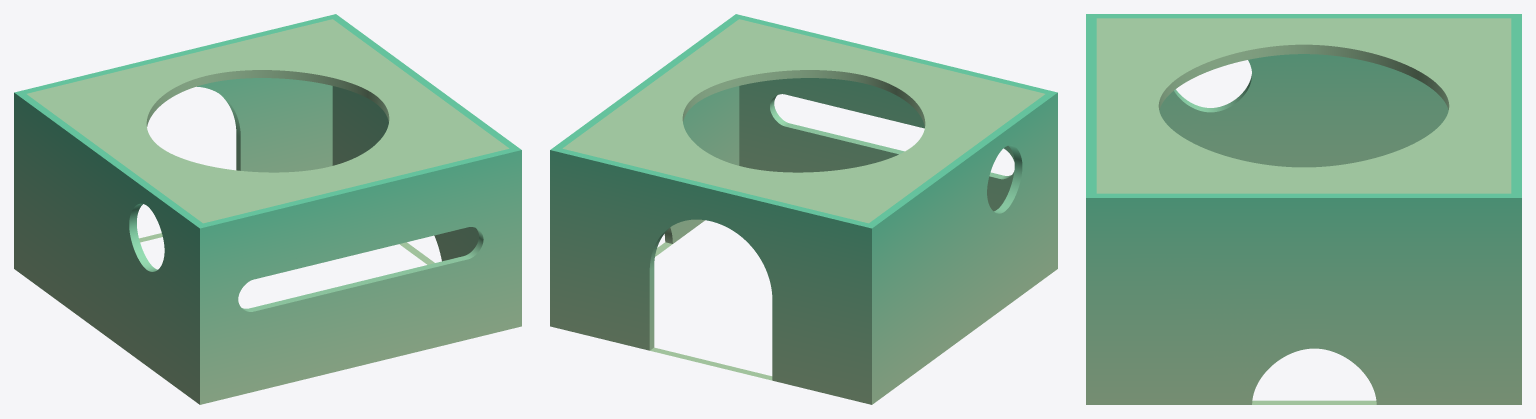
Rendered from wallsandroof-16.glb.
The picture shows the model from 3 angles, left to right: view 1: azimuth 30°, elevation 25°; view 2: azimuth 150°, elevation 25°; view 3: azimuth 270°, elevation 25°; orthographic projection. The views are drawn at different scales.
Visible parts, largest first — view 1: Mesh_0.001; view 2: Mesh_0.001; view 3: Mesh_0.001.
Part boxes in pixels (left/top/right/bottom): Mesh_0.001: left=14, top=14, right=521, bottom=404; Mesh_0.001: left=550, top=14, right=1057, bottom=404; Mesh_0.001: left=1086, top=14, right=1521, bottom=404.
Bounding box in the file's own units: 21 × 11 × 21.
